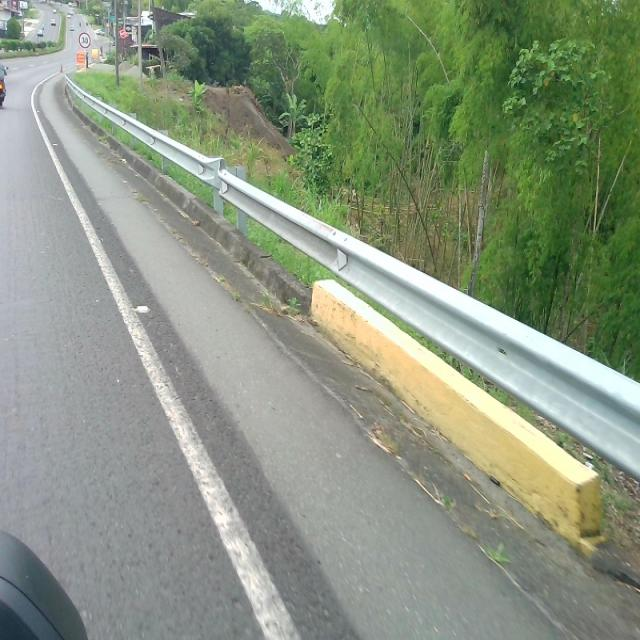DITCH: (35, 69, 638, 638)
